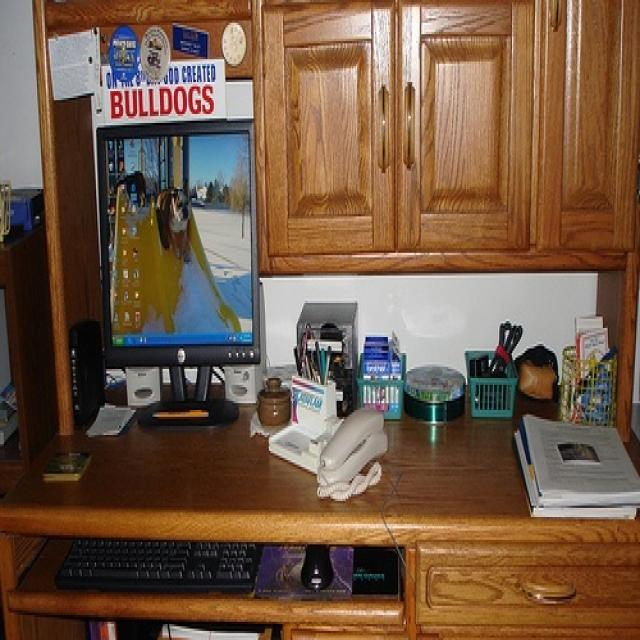tvmonitor: (95, 124, 262, 427)
